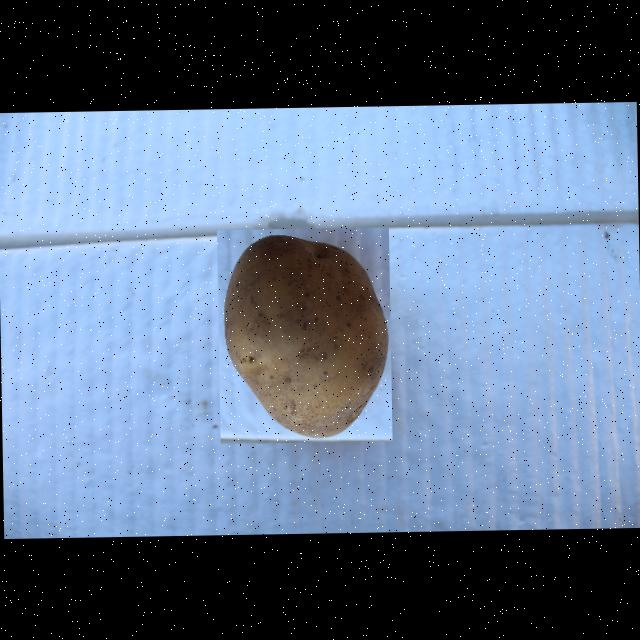Diseased-fungal potato: (216, 227, 392, 444)
